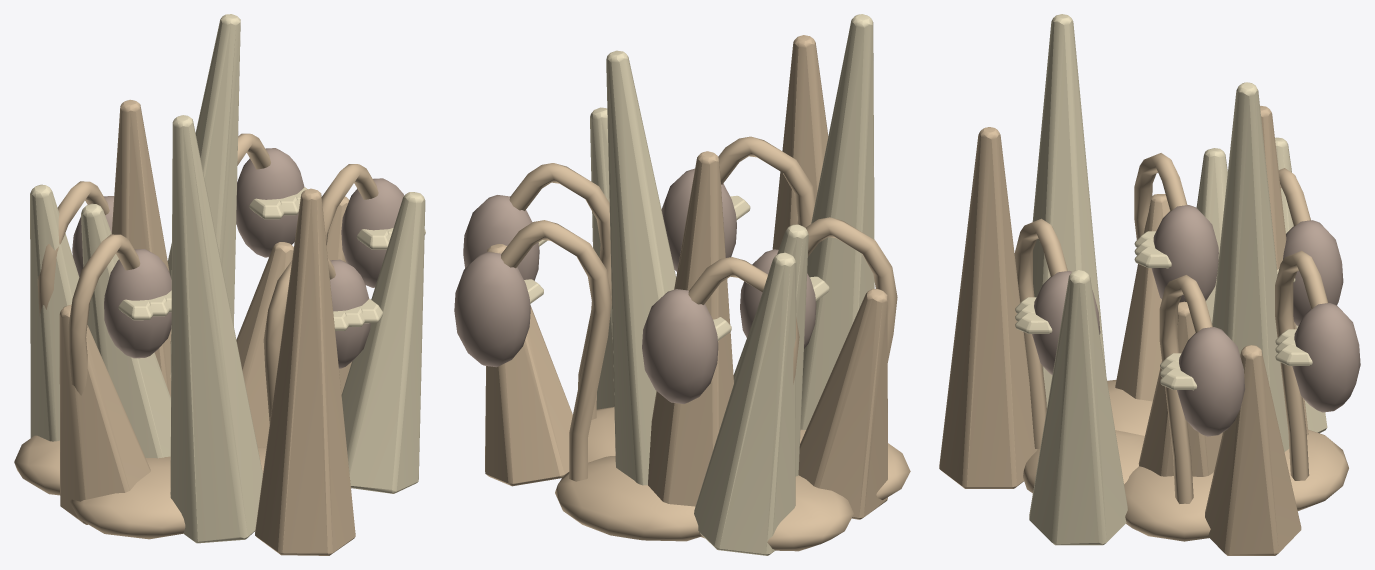
The model's file is bio_crystal_fan_08_far.glb.
3 renders of one model, left to right at view 1: azimuth 30°, elevation 25°; view 2: azimuth 150°, elevation 25°; view 3: azimuth 270°, elevation 25°, orthographic. The views are drawn at different scales.
Visible parts, largest first — view 1: Reflecting mineral prism.007, Reflecting mineral prism.002, Reflecting mineral prism.005, Reflecting mineral prism.004, Reflecting mineral prism.003, Reflecting mineral prism.001, Mineral substrate, Reflecting mineral prism.009, Reflecting mineral prism.006, Pendant spore capsule.004, Pendant spore capsule.003, Reflecting mineral prism (+13 smaller); view 2: Reflecting mineral prism.001, Reflecting mineral prism.003, Reflecting mineral prism.007, Mineral substrate, Reflecting mineral prism.004, Reflecting mineral prism.006, Reflecting mineral prism.008, Pendant spore capsule.001, Pendant spore capsule.003, Arched fruit stem.003, Reflecting mineral prism.002, Arched fruit stem (+8 smaller); view 3: Reflecting mineral prism.002, Reflecting mineral prism.005, Reflecting mineral prism.003, Reflecting mineral prism.008, Reflecting mineral prism.007, Mineral substrate, Pendant spore capsule.003, Pendant spore capsule, Reflecting mineral prism.004, Arched fruit stem.003, Arched fruit stem, Pendant spore capsule.004 (+13 smaller).
Boxes of the visible parts, x1,y1,x2,y2 form: Reflecting mineral prism.007: (170,115,262,543); Reflecting mineral prism.002: (255,188,355,555); Reflecting mineral prism.005: (341,192,425,493); Reflecting mineral prism.004: (59,305,150,524); Reflecting mineral prism.003: (167,14,240,380); Reflecting mineral prism.001: (30,184,79,441); Mineral substrate: (14,435,266,539); Reflecting mineral prism.009: (81,203,170,458); Reflecting mineral prism.006: (111,99,171,397); Pendant spore capsule.004: (104,249,171,358); Pendant spore capsule.003: (236,148,304,257); Reflecting mineral prism: (236,242,293,447); Reflecting mineral prism.001: (694,252,796,555); Reflecting mineral prism.003: (606,50,676,485); Reflecting mineral prism.007: (800,14,874,429); Mineral substrate: (555,407,910,551); Reflecting mineral prism.004: (798,289,887,519); Reflecting mineral prism.006: (648,151,733,506); Reflecting mineral prism.008: (485,244,572,486); Pendant spore capsule.001: (642,289,718,403); Pendant spore capsule.003: (454,252,530,367); Arched fruit stem.003: (501,220,611,481); Reflecting mineral prism.002: (772,35,828,249); Arched fruit stem: (509,163,611,419); Reflecting mineral prism.002: (939,127,1037,488); Reflecting mineral prism.005: (1029,270,1127,545); Reflecting mineral prism.003: (1212,82,1289,451); Reflecting mineral prism.008: (1205,345,1301,555); Reflecting mineral prism.007: (1032,14,1106,407); Mineral substrate: (1023,380,1348,541); Pendant spore capsule.003: (1292,303,1360,412); Pendant spore capsule: (1177,327,1244,436); Reflecting mineral prism.004: (1115,194,1169,401); Arched fruit stem.003: (1275,250,1327,480); Arched fruit stem: (1159,275,1212,503); Pendant spore capsule.004: (1151,205,1218,302).
Size of the model in its own units: 1.63 by 1.79 by 1.59.
